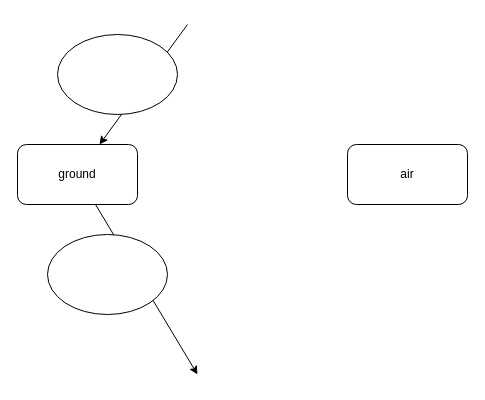
This 485x400 diagram has some shape labels left out. The centre of each missing label's shape, as x and y in pixels:
"remainJumpCnt = maxJumpCnt" goes at point 117,74.
"remainJumpCnt = maxJumpCnt - 1" goes at point 107,274.
